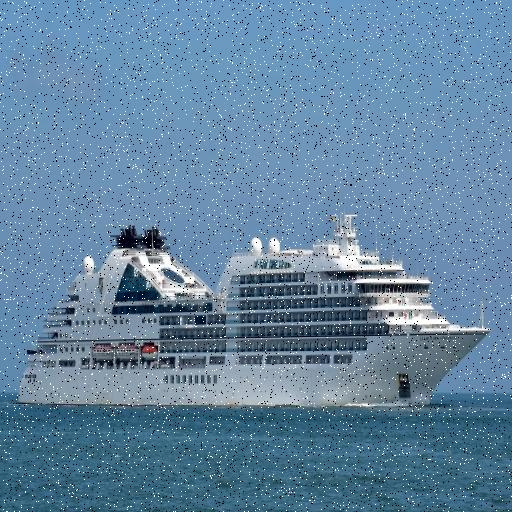cruises: (13, 207, 495, 420)
